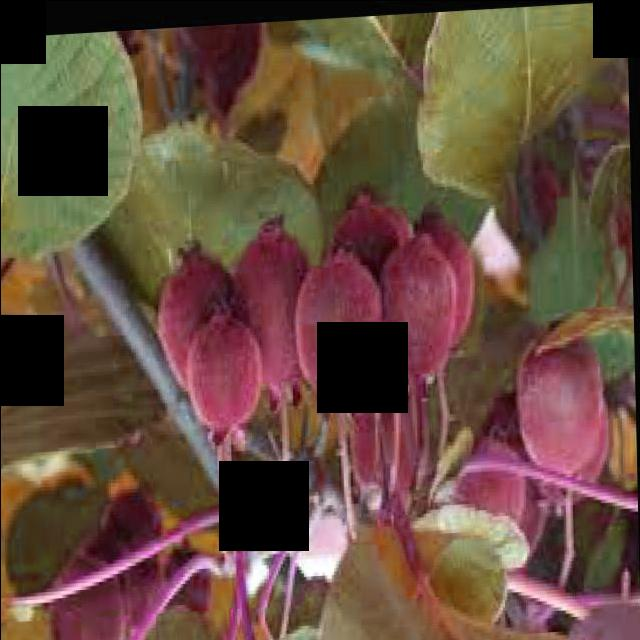kiwi: (317, 189, 422, 380), (155, 232, 262, 401), (229, 215, 323, 405), (512, 321, 611, 483), (292, 244, 388, 406), (380, 216, 462, 388), (438, 429, 533, 563), (181, 298, 269, 442), (403, 211, 483, 359), (91, 478, 168, 631), (44, 542, 132, 640)
